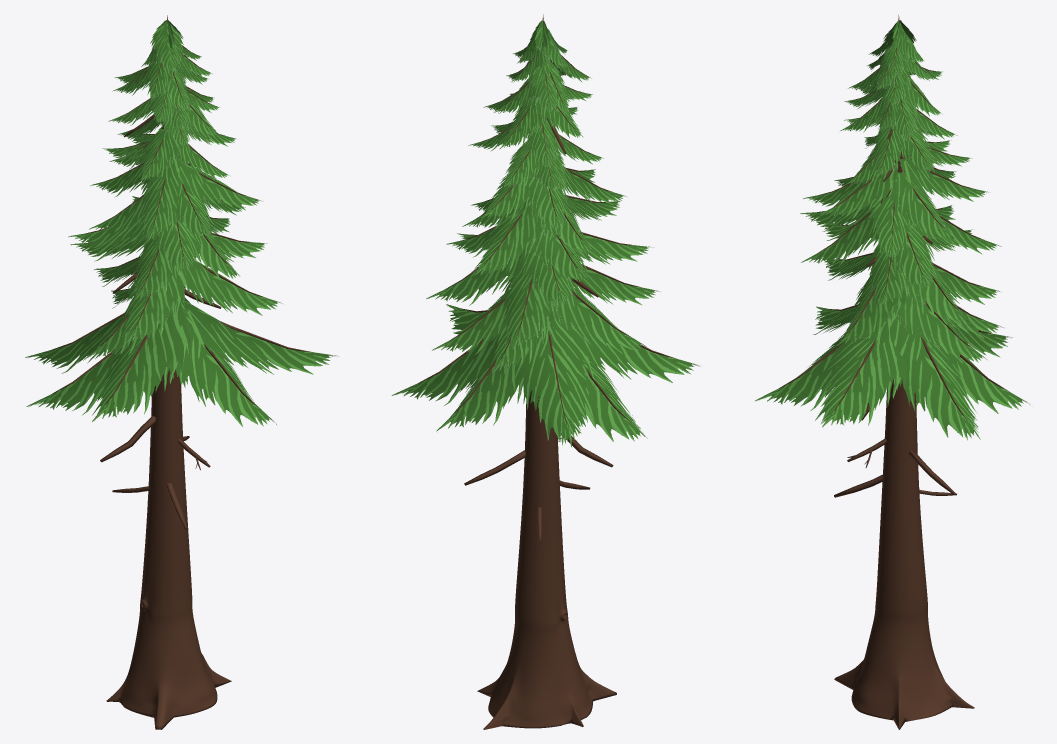
Rendered from PineTree02(unoptimized).fbx.
3 renders of one model, left to right at view 1: azimuth 30°, elevation 25°; view 2: azimuth 150°, elevation 25°; view 3: azimuth 270°, elevation 25°, orthographic.
Parts seen in each view (by area): view 1: Trunk.001, pineNeedles02.044, pineNeedles02.059, pineNeedles02.045, pineNeedles02.057, pineNeedles02.054, pineNeedles02.077, pineNeedles02.040, pineNeedles02.069, pineNeedles02.078, pineNeedles02.043, pineNeedles02.066 (+15 smaller); view 2: Trunk.001, pineNeedles02.043, pineNeedles02.060, pineNeedles02.039, pineNeedles02.042, pineNeedles02.064, pineNeedles02.044, pineNeedles02.040, pineNeedles02.061, pineNeedles02.058, pineNeedles02.056, pineNeedles02.065 (+21 smaller); view 3: Trunk.001, pineNeedles02.059, pineNeedles02.042, pineNeedles02.058, pineNeedles02.054, pineNeedles02.075, pineNeedles02.045, pineNeedles02.067, pineNeedles02.039, pineNeedles02.071, pineNeedles02.078, pineNeedles02.056 (+21 smaller).
Boxes of the visible parts, x1=… form: Trunk.001: x1=106, y1=15, x2=231, y2=729; pineNeedles02.044: x1=92, y1=298, x2=191, y2=421; pineNeedles02.059: x1=181, y1=299, x2=338, y2=374; pineNeedles02.045: x1=169, y1=302, x2=276, y2=426; pineNeedles02.057: x1=121, y1=265, x2=189, y2=343; pineNeedles02.054: x1=184, y1=259, x2=282, y2=315; pineNeedles02.077: x1=141, y1=155, x2=180, y2=241; pineNeedles02.040: x1=26, y1=349, x2=118, y2=415; pineNeedles02.069: x1=131, y1=235, x2=185, y2=300; pineNeedles02.078: x1=178, y1=159, x2=263, y2=210; pineNeedles02.043: x1=25, y1=312, x2=126, y2=373; pineNeedles02.066: x1=146, y1=214, x2=201, y2=270; Trunk.001: x1=477, y1=14, x2=616, y2=729; pineNeedles02.043: x1=513, y1=315, x2=596, y2=447; pineNeedles02.060: x1=502, y1=263, x2=563, y2=350; pineNeedles02.039: x1=436, y1=360, x2=524, y2=431; pineNeedles02.042: x1=391, y1=334, x2=512, y2=405; pineNeedles02.064: x1=474, y1=200, x2=547, y2=275; pineNeedles02.044: x1=582, y1=331, x2=699, y2=382; pineNeedles02.040: x1=581, y1=359, x2=647, y2=441; pineNeedles02.061: x1=554, y1=285, x2=646, y2=353; pineNeedles02.058: x1=432, y1=288, x2=510, y2=354; pineNeedles02.056: x1=426, y1=253, x2=526, y2=305; pineNeedles02.065: x1=529, y1=226, x2=589, y2=281; Trunk.001: x1=834, y1=15, x2=974, y2=729; pineNeedles02.059: x1=815, y1=315, x2=906, y2=427; pineNeedles02.042: x1=889, y1=308, x2=980, y2=440; pineNeedles02.058: x1=895, y1=288, x2=987, y2=363; pineNeedles02.054: x1=837, y1=271, x2=910, y2=345; pineNeedles02.075: x1=889, y1=172, x2=955, y2=241; pineNeedles02.045: x1=755, y1=331, x2=846, y2=410; pineNeedles02.067: x1=877, y1=222, x2=937, y2=289; pineNeedles02.039: x1=937, y1=339, x2=1029, y2=413; pineNeedles02.071: x1=866, y1=194, x2=912, y2=260; pineNeedles02.078: x1=819, y1=162, x2=898, y2=218; pineNeedles02.056: x1=902, y1=263, x2=971, y2=326.
Bounding box in the file's own units: 799 × 1890 × 748.
